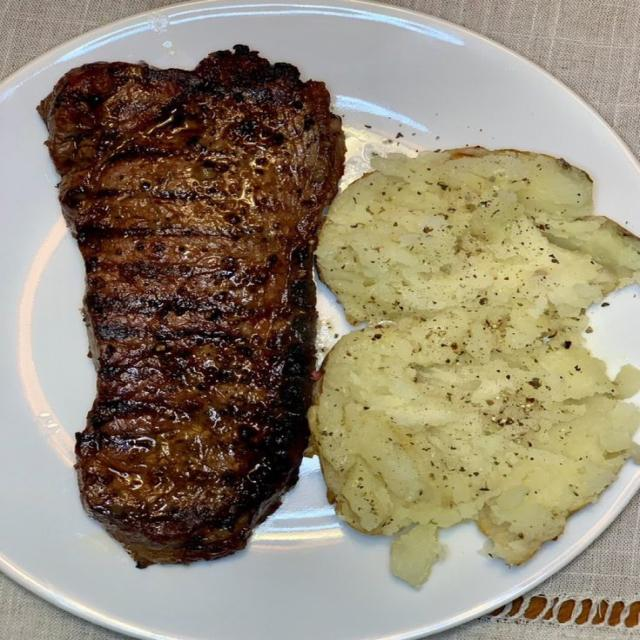beef steak: (39, 45, 345, 567)
mashed potatoes: (311, 149, 639, 585)
